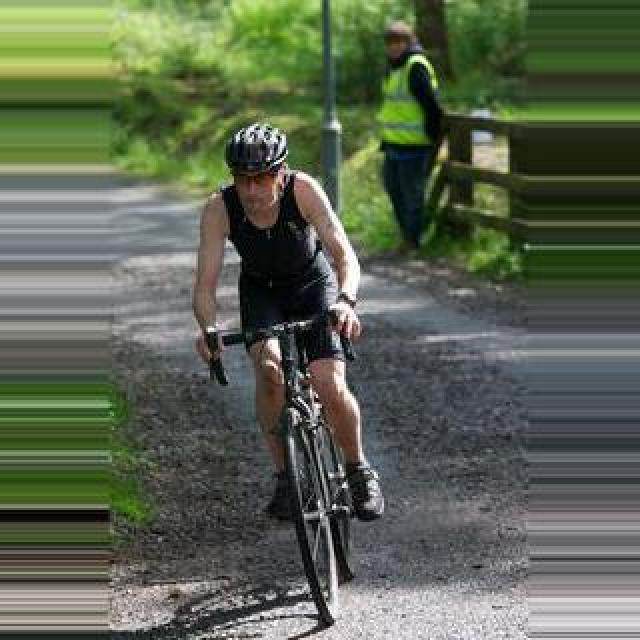MC-Bike: (188, 126, 384, 542), (374, 24, 446, 250)
Person: (261, 329, 361, 627)
